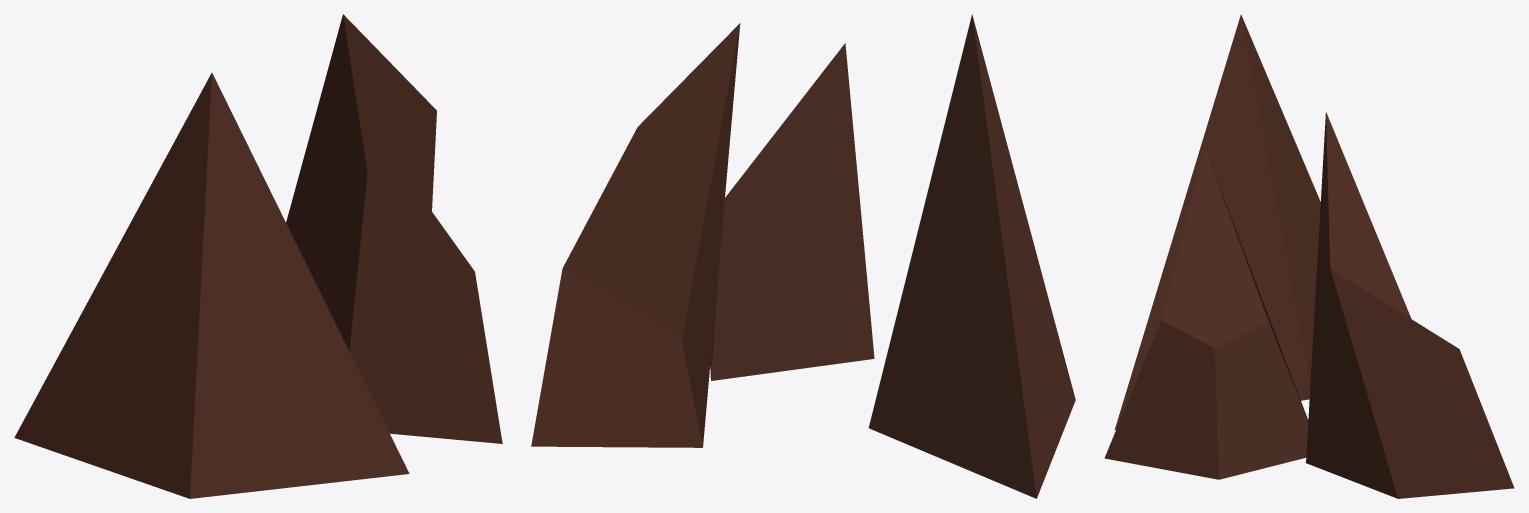
File: spike1.fbx
3 views of the same model, side by side, from view 1: azimuth 30°, elevation 25°; view 2: azimuth 150°, elevation 25°; view 3: azimuth 270°, elevation 25° (orthographic). The views are drawn at different scales.
Visible parts, largest first — view 1: pPyramid105; view 2: pPyramid105; view 3: pPyramid105.
Boxes of the visible parts, x1,y1,x2,y2 form: pPyramid105: [14, 14, 502, 498]; pPyramid105: [531, 14, 1075, 498]; pPyramid105: [1104, 14, 1514, 498].
Size of the model in its own units: 68.6 by 58.61 by 60.98.
